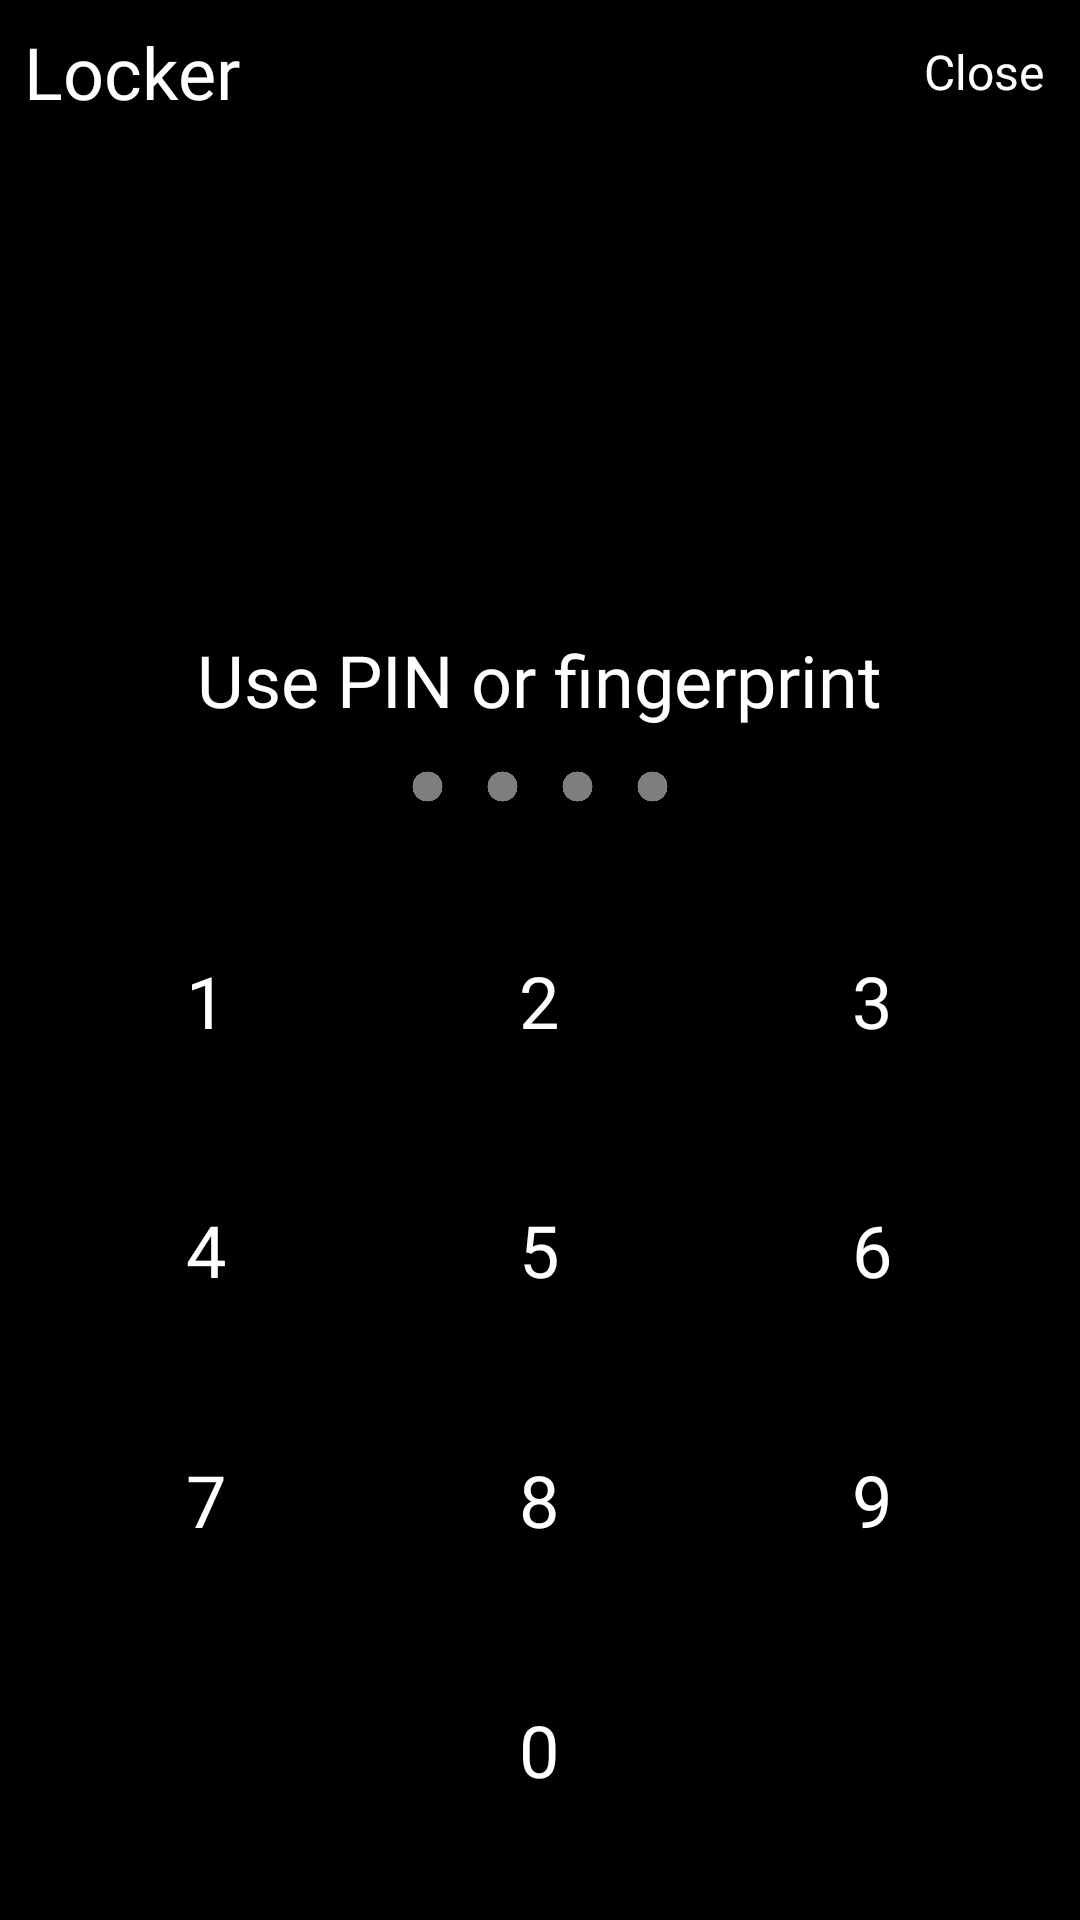

Screen size 1080w x 1920h. Icon name, then its box in pixels as [x1,y1,x2,y2]:
dot: [412,771,443,802], [487,771,518,802], [562,771,593,802], [637,771,668,802]
